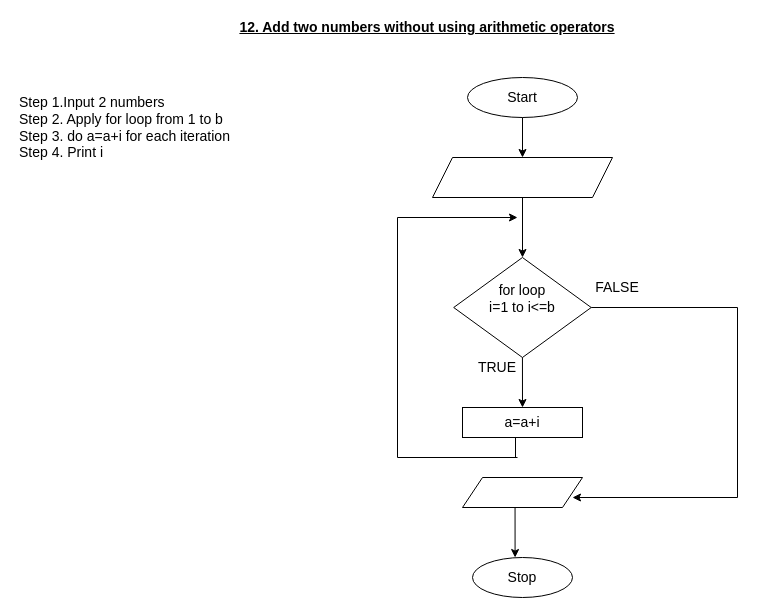
The diagram is 763 pixels wide and 615 high, and some of its shapes have lost their labels. The centre of each missing label's shape, as x and y in pixels:
"Input 2 numbers a,b" belongs at point 522,177.
"Print a" belongs at point 522,492.
